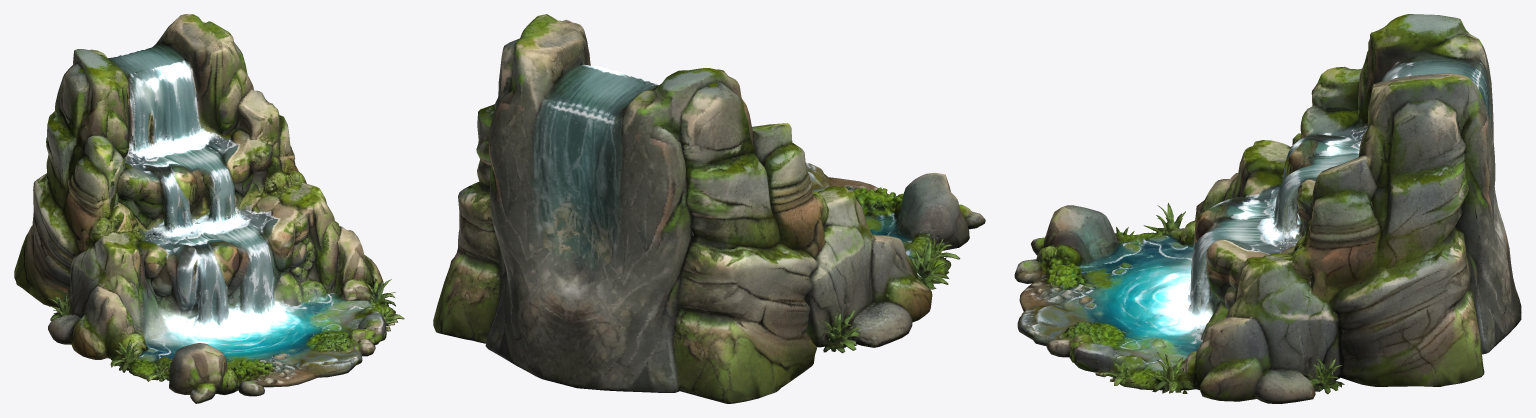
Rendered from Tiered_Cascade.fbx.
3 renders of one model, left to right at view 1: azimuth 30°, elevation 25°; view 2: azimuth 150°, elevation 25°; view 3: azimuth 270°, elevation 25°, orthographic. The views are drawn at different scales.
Parts seen in each view (by area): view 1: Tiered_Cascade_LOD0; view 2: Tiered_Cascade_LOD0; view 3: Tiered_Cascade_LOD0.
Part boxes in pixels (box(x1,y1,x2,y2)): Tiered_Cascade_LOD0: box(14, 14, 404, 403); Tiered_Cascade_LOD0: box(433, 14, 985, 403); Tiered_Cascade_LOD0: box(1014, 14, 1521, 403).
Size of what is drawn, in the model's own units: 1.64 by 1.11 by 1.9.
1 material, 1 textured.
